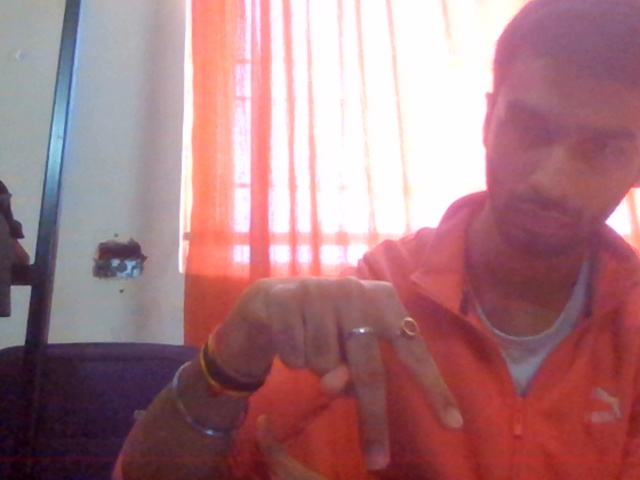P: (162, 200, 497, 480)
